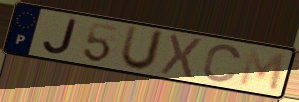5: (82, 20, 121, 64)
C: (201, 43, 244, 84)
J: (40, 17, 80, 56)
M: (237, 46, 288, 94)
U: (117, 24, 168, 73)
X: (158, 32, 206, 81)
